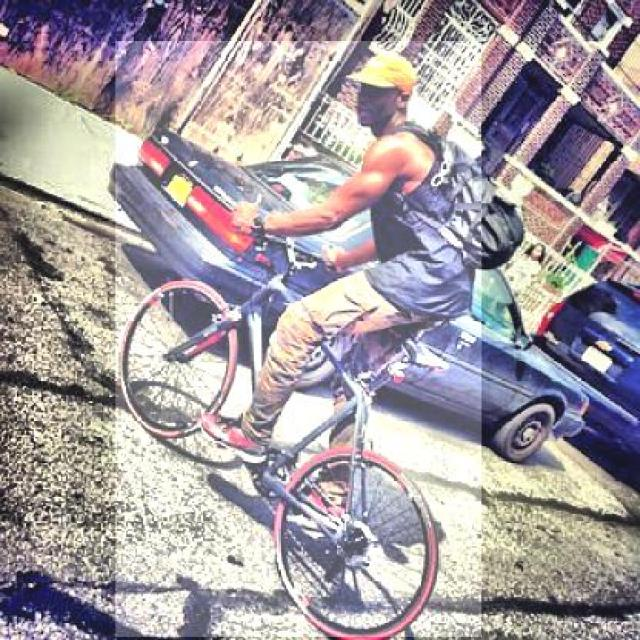bikerider: (116, 40, 482, 638)
